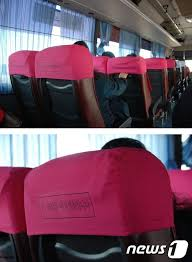seat: (1, 153, 41, 252)
